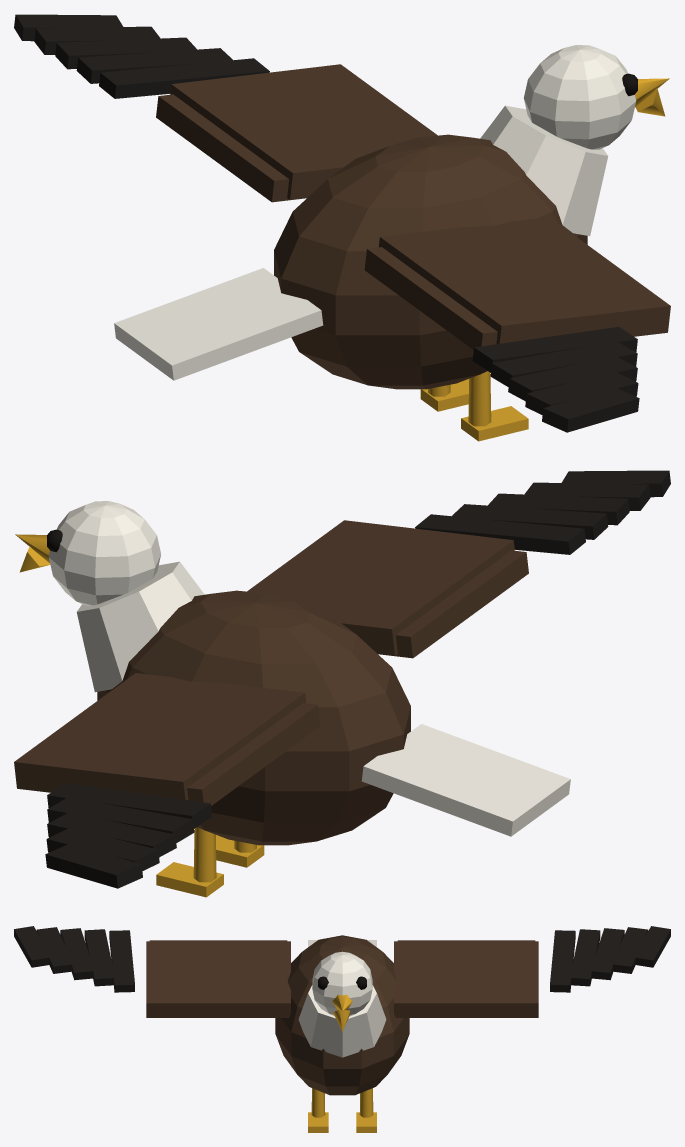
File: eagle_bald.glb
3 renders of one model, top to bottom at view 1: azimuth 30°, elevation 25°; view 2: azimuth 150°, elevation 25°; view 3: azimuth 270°, elevation 25°, orthographic. The views are drawn at different scales.
Parts seen in each view (by area): view 1: eagle_bald, wing_r, wing_l, tail, wingtip_r, wingtip_l, head; view 2: eagle_bald, wing_l, wing_r, tail, wingtip_l, wingtip_r, head; view 3: eagle_bald, wing_l, wing_r, wingtip_l, wingtip_r, head.
Part boxes in pixels (x1,y1,x2,y2): eagle_bald: [274, 105, 608, 441]; wing_r: [364, 217, 670, 349]; wing_l: [156, 64, 437, 202]; tail: [114, 268, 323, 380]; wingtip_r: [472, 326, 639, 432]; wingtip_l: [14, 14, 269, 98]; head: [524, 45, 669, 149]; eagle_bald: [76, 561, 410, 897]; wing_l: [14, 673, 320, 805]; wing_r: [247, 520, 528, 658]; tail: [361, 724, 570, 836]; wingtip_l: [45, 782, 212, 888]; wingtip_r: [415, 470, 670, 554]; head: [15, 501, 160, 605]; eagle_bald: [275, 935, 409, 1132]; wing_l: [394, 940, 538, 1017]; wing_r: [146, 940, 290, 1017]; wingtip_l: [550, 926, 670, 992]; wingtip_r: [14, 926, 134, 992]; head: [312, 951, 372, 1031].
Size of the model in its own units: 1.05 by 0.645 by 1.91.
